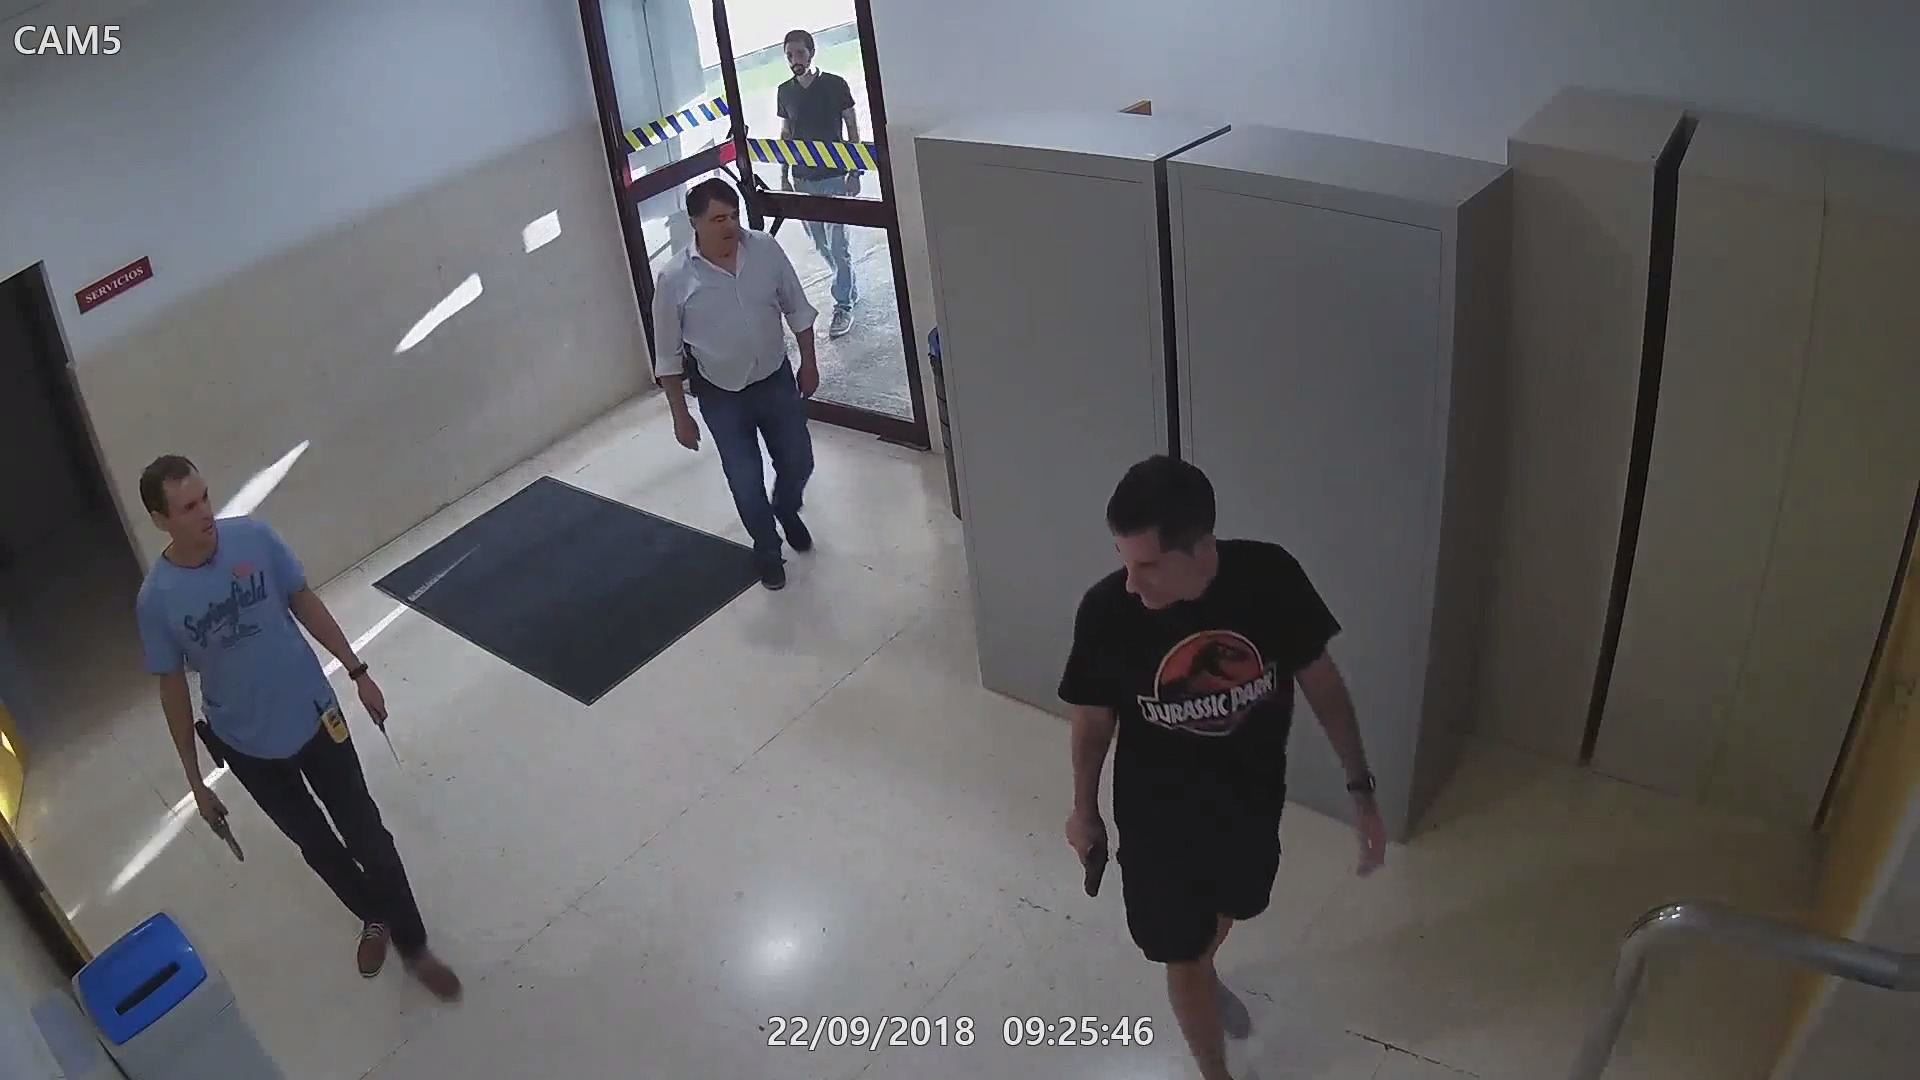Handgun: (183, 775, 245, 866), (1063, 811, 1113, 897), (682, 343, 708, 411)
Knife: (349, 667, 405, 773)
